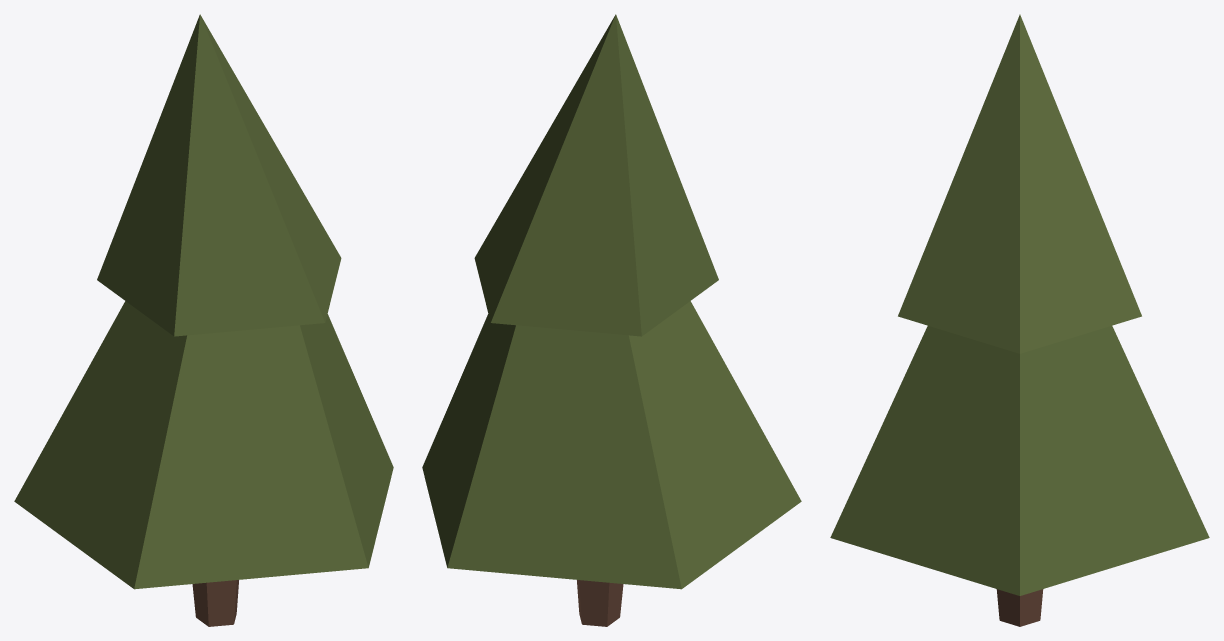
File: tree.glb
The picture shows the model from 3 angles, left to right: view 1: azimuth 30°, elevation 25°; view 2: azimuth 150°, elevation 25°; view 3: azimuth 270°, elevation 25°; orthographic projection. The views are drawn at different scales.
Parts seen in each view (by area): view 1: tree03; view 2: tree03; view 3: tree03.
Part boxes in pixels (<box>): tree03: <box>14,14,393,626</box>; tree03: <box>422,14,801,626</box>; tree03: <box>830,14,1209,626</box>.
Bounding box in the file's own units: 169 × 308 × 178.
Materials: 1 (1 with a texture image).
